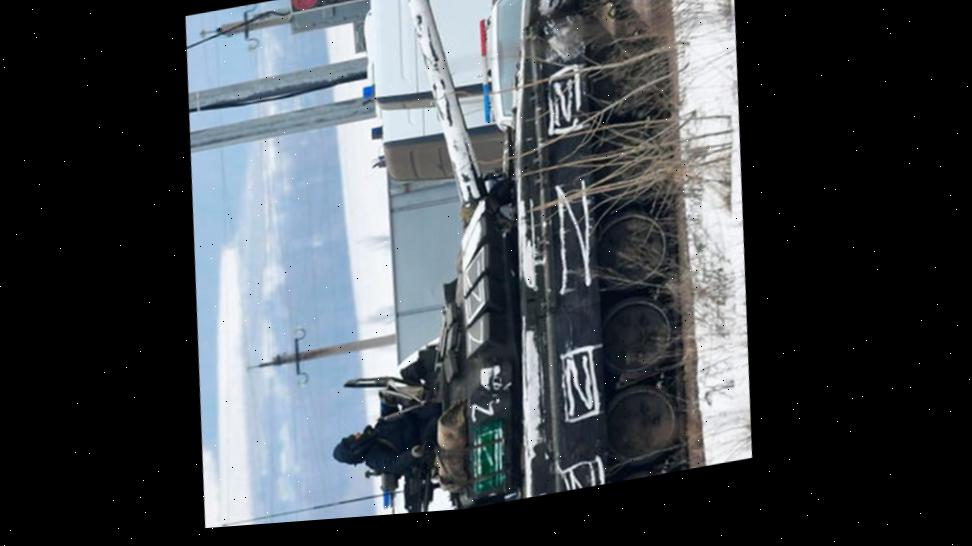tank: (322, 0, 727, 519)
